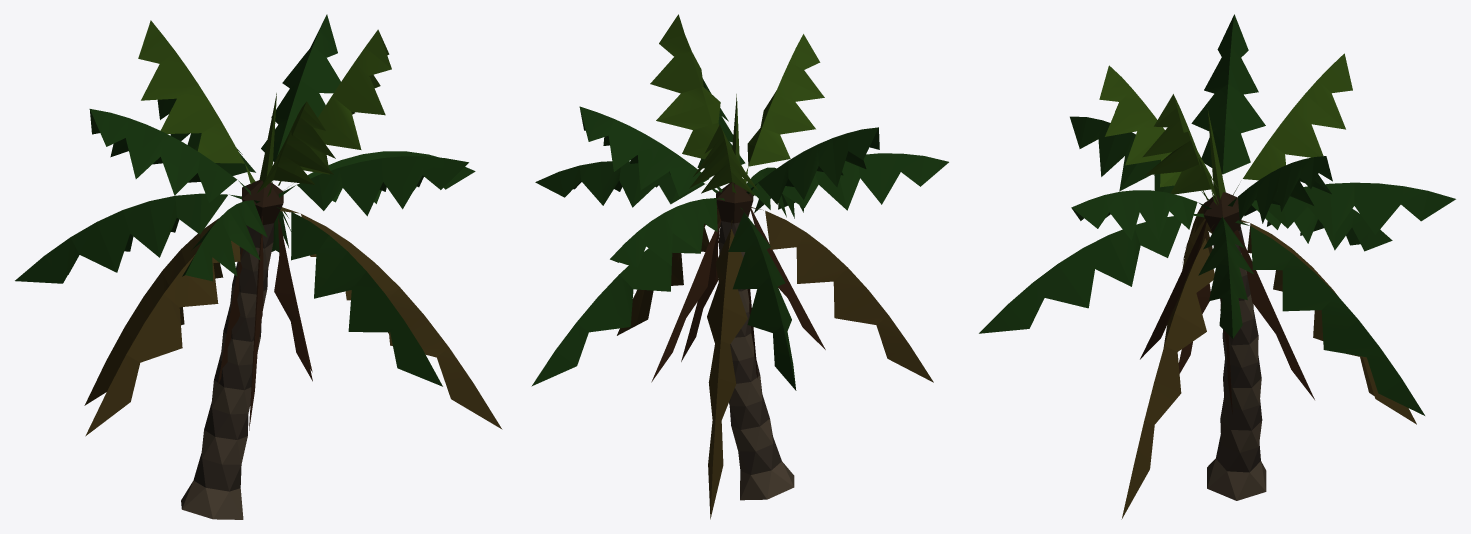
File: SM_Palm_Coco_E.fbx
3 renders of one model, left to right at view 1: azimuth 30°, elevation 25°; view 2: azimuth 150°, elevation 25°; view 3: azimuth 270°, elevation 25°, orthographic. The views are drawn at different scales.
Parts seen in each view (by area): view 1: SM_Palm_Coco_E_LOD0; view 2: SM_Palm_Coco_E_LOD0; view 3: SM_Palm_Coco_E_LOD0.
Boxes of the visible parts, bbox=[...] form: SM_Palm_Coco_E_LOD0: bbox=[15, 14, 502, 519]; SM_Palm_Coco_E_LOD0: bbox=[531, 14, 948, 519]; SM_Palm_Coco_E_LOD0: bbox=[979, 14, 1455, 519].
Size of the model in its own units: 581 by 609 by 638.
